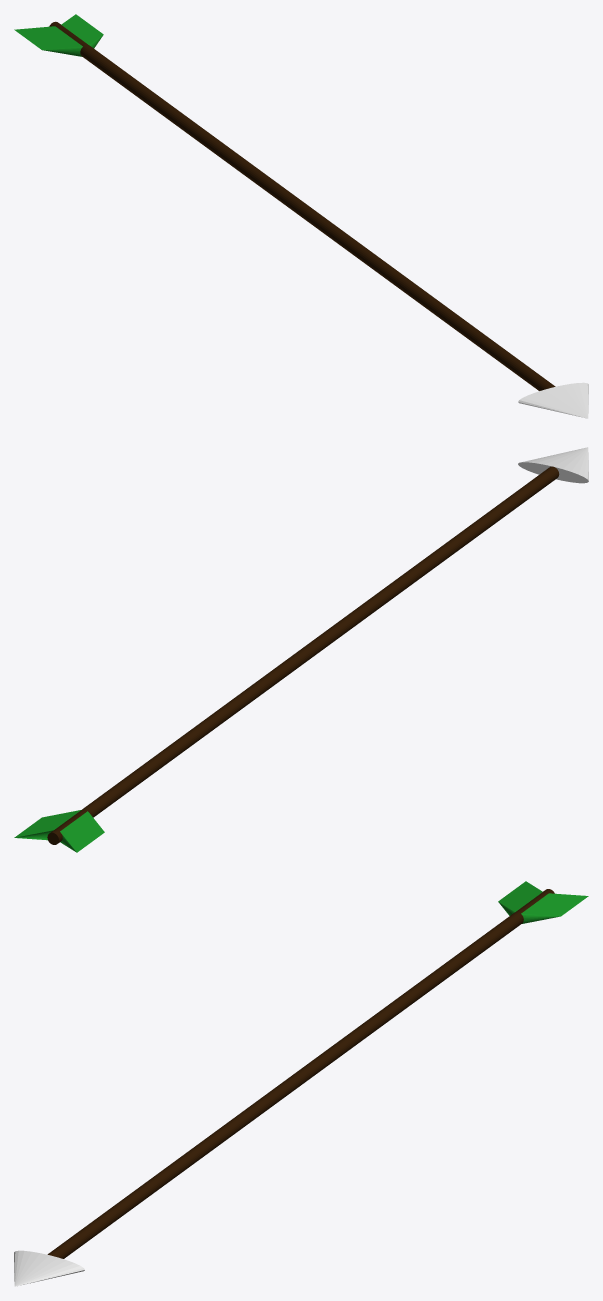
The picture shows the model from 3 angles, top to bottom: view 1: azimuth 30°, elevation 25°; view 2: azimuth 150°, elevation 25°; view 3: azimuth 330°, elevation 25°; orthographic projection.
Parts seen in each view (by area): view 1: Cylinder; view 2: Cylinder; view 3: Cylinder.
Part boxes in pixels (x1,y1,x2,y2): Cylinder: [14, 14, 588, 418]; Cylinder: [14, 447, 588, 852]; Cylinder: [14, 881, 588, 1286].
Size of the model in its own units: 12.28 by 2 by 163.
